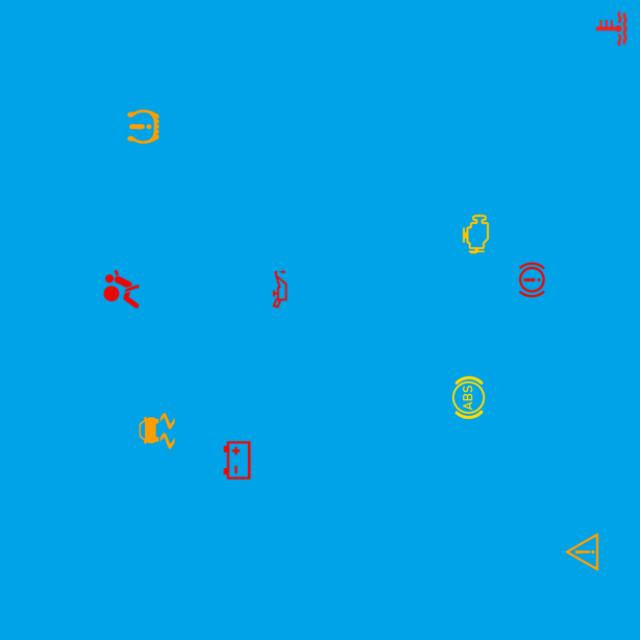Anti Lock Braking System: (445, 374, 492, 421)
Braking System Issue: (508, 256, 556, 304)
Charging System Issue: (213, 436, 260, 484)
Check Engine: (452, 210, 500, 258)
Electronic Stability Problem -ESP-: (134, 408, 180, 454)
Engine Overheating Warning Light: (588, 5, 635, 52)
Low Engine Oil Warning Light: (256, 266, 304, 313)
Low Tire Pressure Warning Light: (120, 103, 167, 150)
Master warning light: (558, 528, 606, 576)
SRS-Airbag: (98, 266, 145, 313)
